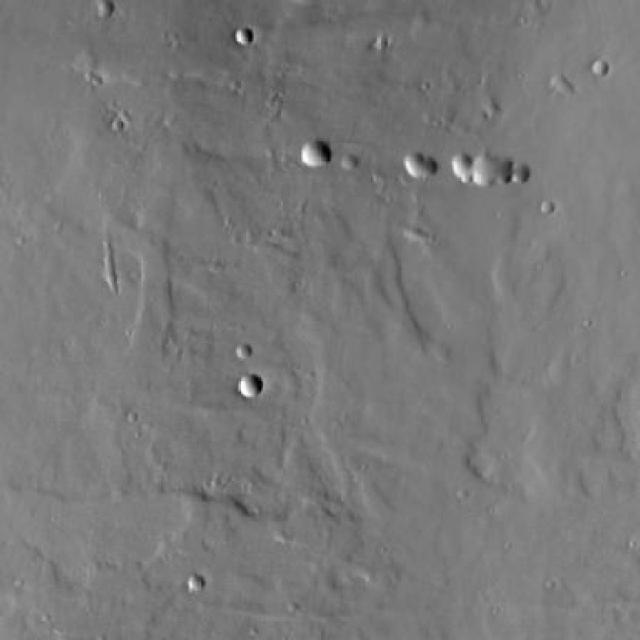crater: (302, 141, 328, 167), (240, 376, 262, 399), (232, 26, 251, 45), (185, 581, 203, 599), (592, 57, 610, 74), (95, 0, 113, 14), (237, 347, 252, 362)
